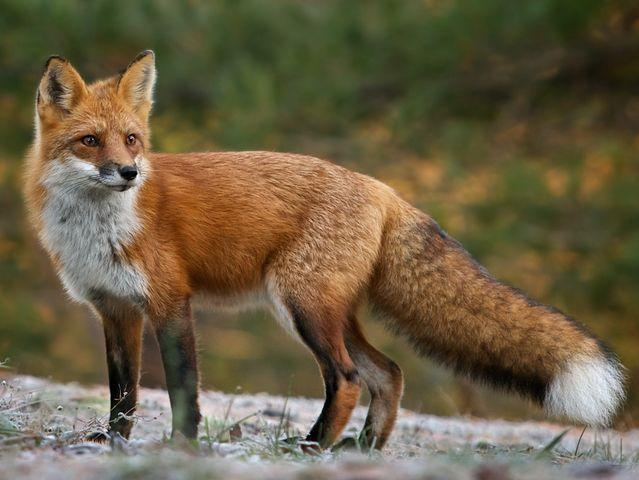fox: (24, 51, 627, 441)
